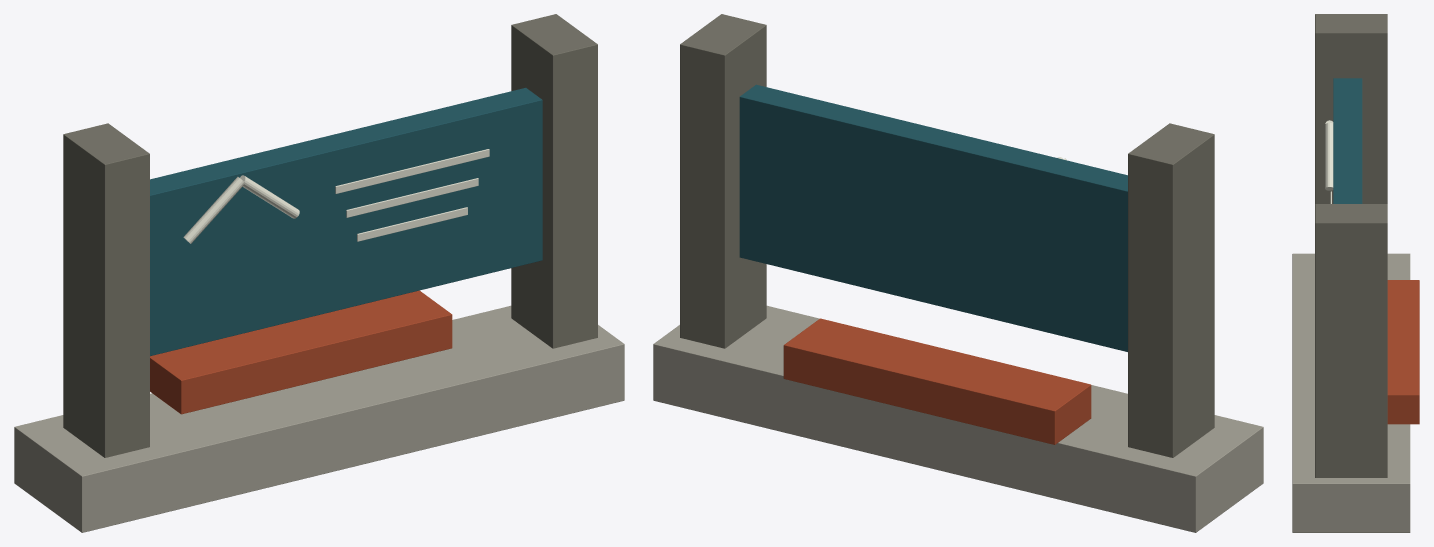
File: source-edit.glb
The picture shows the model from 3 angles, left to right: view 1: azimuth 30°, elevation 25°; view 2: azimuth 150°, elevation 25°; view 3: azimuth 270°, elevation 25°; orthographic projection. The views are drawn at different scales.
Parts seen in each view (by area): view 1: Replaceable_Board, Plinth, Pillar, Pillar.001, Planter, Replaceable_Label_Line, Replaceable_Label_Line.001, Replaceable_Label_Line.002, Roof_Motif_Left, Roof_Motif_Right; view 2: Replaceable_Board, Plinth, Pillar, Pillar.001, Planter; view 3: Pillar.001, Plinth, Pillar, Planter, Replaceable_Board, Roof_Motif_Right.
Part boxes in pixels (x1,y1,x2,y2): Replaceable_Board: (150,87,542,356); Plinth: (14,305,624,532); Pillar: (63,123,149,457); Pillar.001: (511,14,597,348); Planter: (150,290,452,414); Replaceable_Label_Line: (335,149,489,193); Replaceable_Label_Line.001: (346,178,478,217); Replaceable_Label_Line.002: (357,207,467,241); Roof_Motif_Left: (183,176,243,243); Roof_Motif_Right: (240,175,299,218); Replaceable_Board: (739,84,1127,351); Plinth: (653,305,1263,532); Pillar: (1128,123,1214,457); Pillar.001: (680,14,766,348); Planter: (783,318,1091,444); Pillar.001: (1315,204,1387,477); Plinth: (1292,253,1410,532); Pillar: (1315,14,1387,203); Planter: (1387,280,1419,424); Replaceable_Board: (1333,78,1362,203); Roof_Motif_Right: (1325,122,1333,190).
Size of the model in its own units: 3 by 1.85 by 0.7.
